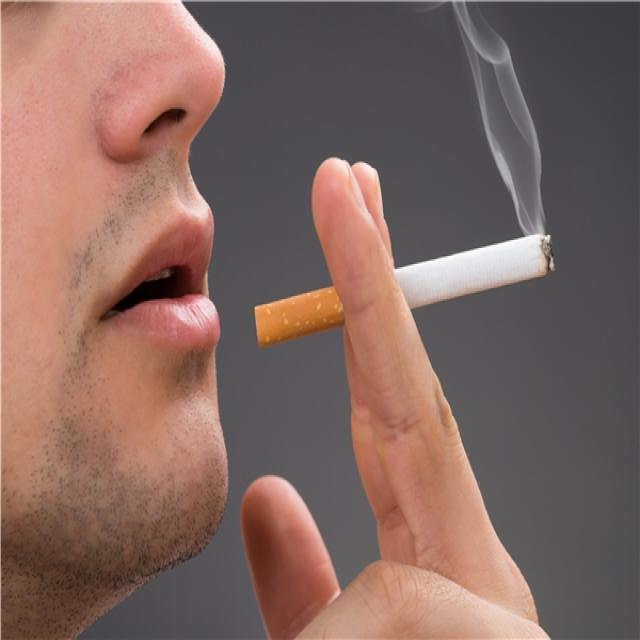smoking: (253, 233, 553, 349)
